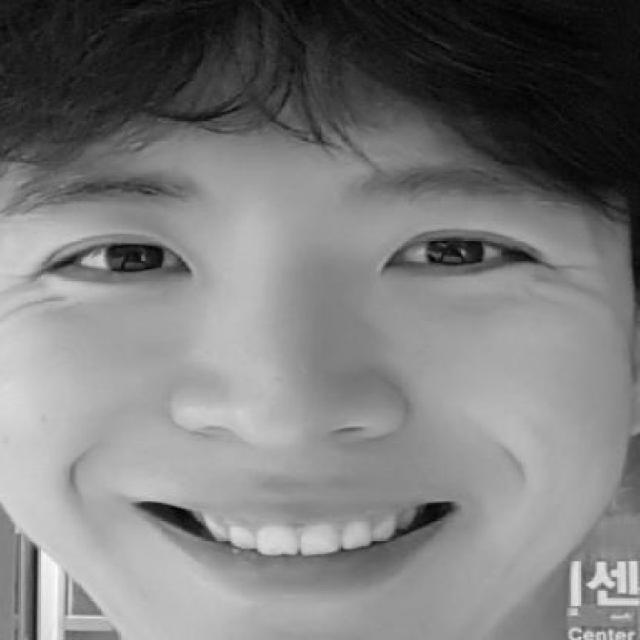happy: (19, 163, 584, 600)
